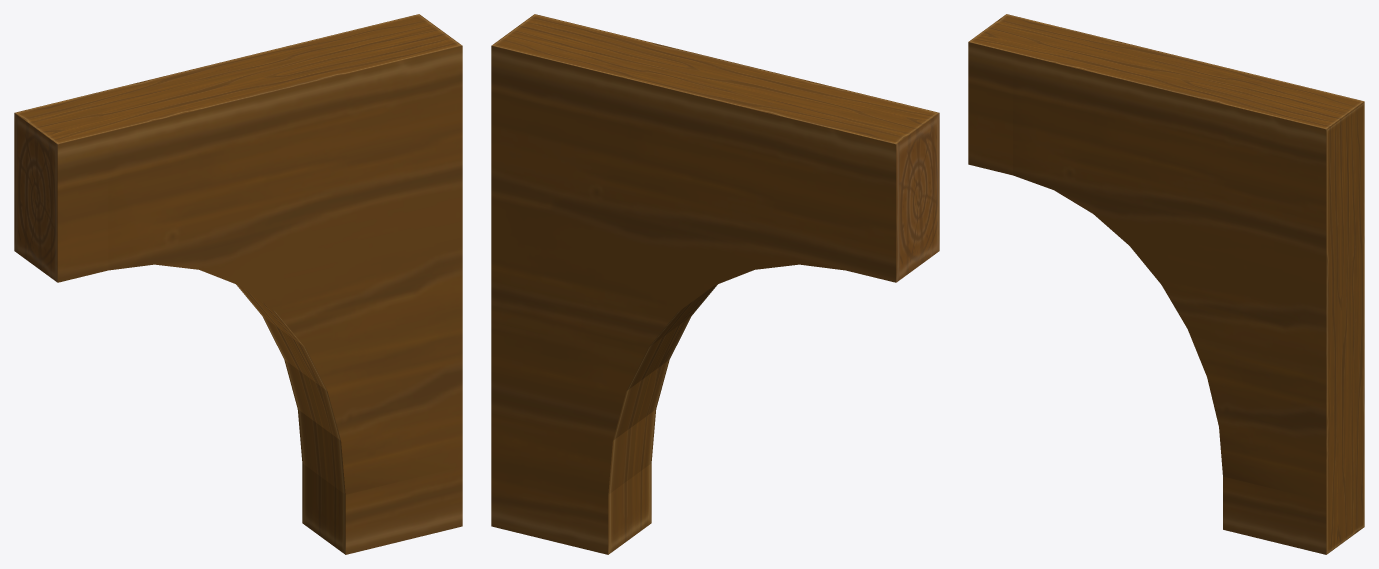
File: SM_Support_Arch_02.fbx
3 views of the same model, side by side, from view 1: azimuth 30°, elevation 25°; view 2: azimuth 150°, elevation 25°; view 3: azimuth 330°, elevation 25° (orthographic). The views are drawn at different scales.
Parts seen in each view (by area): view 1: SM_Support_Arch_02; view 2: SM_Support_Arch_02; view 3: SM_Support_Arch_02.
Boxes of the visible parts, x1,y1,x2,y2 form: SM_Support_Arch_02: [14, 14, 462, 554]; SM_Support_Arch_02: [491, 14, 939, 554]; SM_Support_Arch_02: [968, 14, 1364, 554].
Bounding box in the file's own units: 1.02 × 1.15 × 0.1883.
